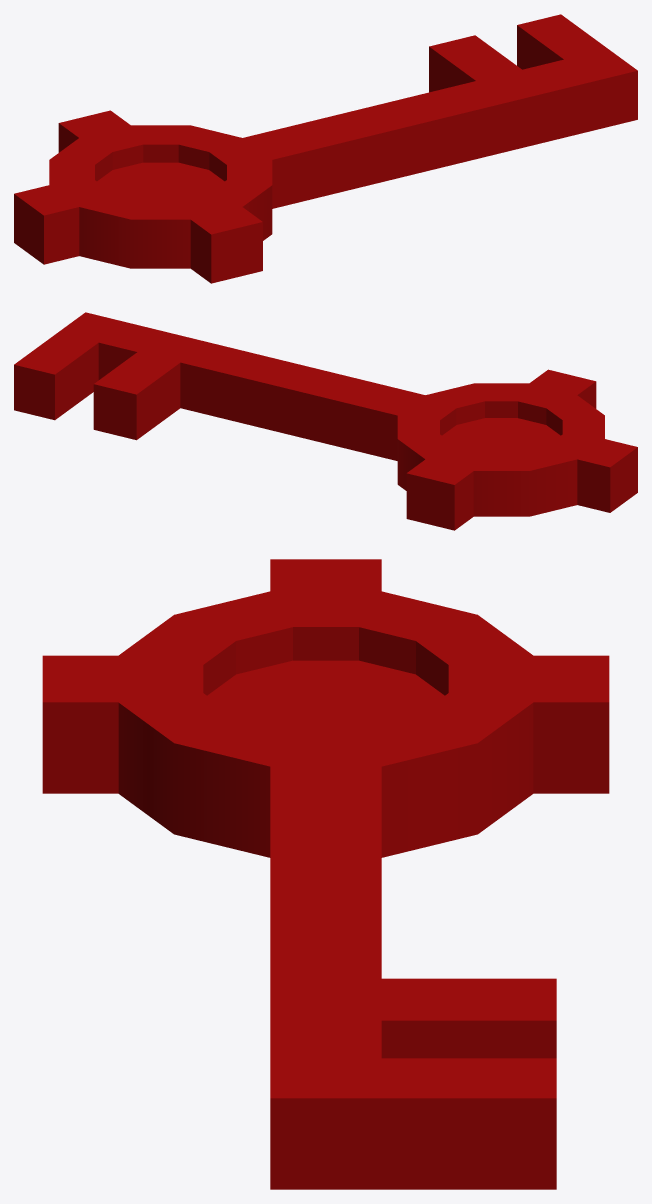
File: Key.FBX
3 renders of one model, top to bottom at view 1: azimuth 30°, elevation 25°; view 2: azimuth 150°, elevation 25°; view 3: azimuth 270°, elevation 25°, orthographic. The views are drawn at different scales.
Parts seen in each view (by area): view 1: Key; view 2: Key; view 3: Key.
Boxes of the visible parts, left/top/right/bottom form: Key: left=14, top=14, right=637, bottom=283; Key: left=14, top=312, right=637, bottom=530; Key: left=42, top=559, right=609, bottom=1189.
Size of the model in its own units: 2.26 by 1 by 0.1786.
